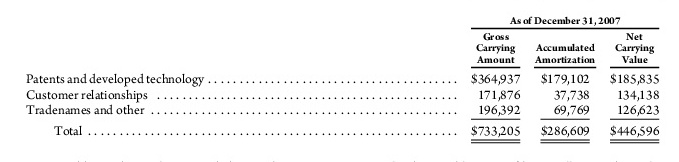table: (0, 0, 679, 162)
